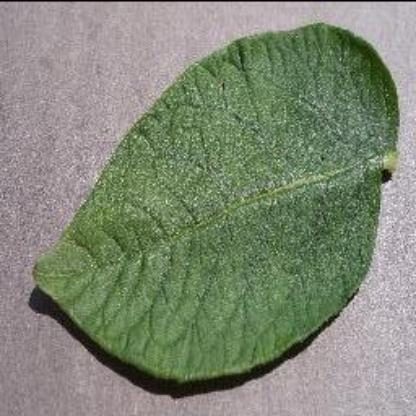Healthy-plant: (19, 18, 405, 394)
